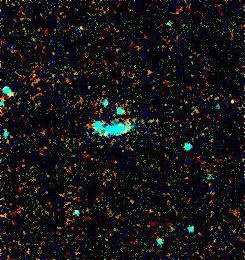star: (218, 89, 245, 119)
